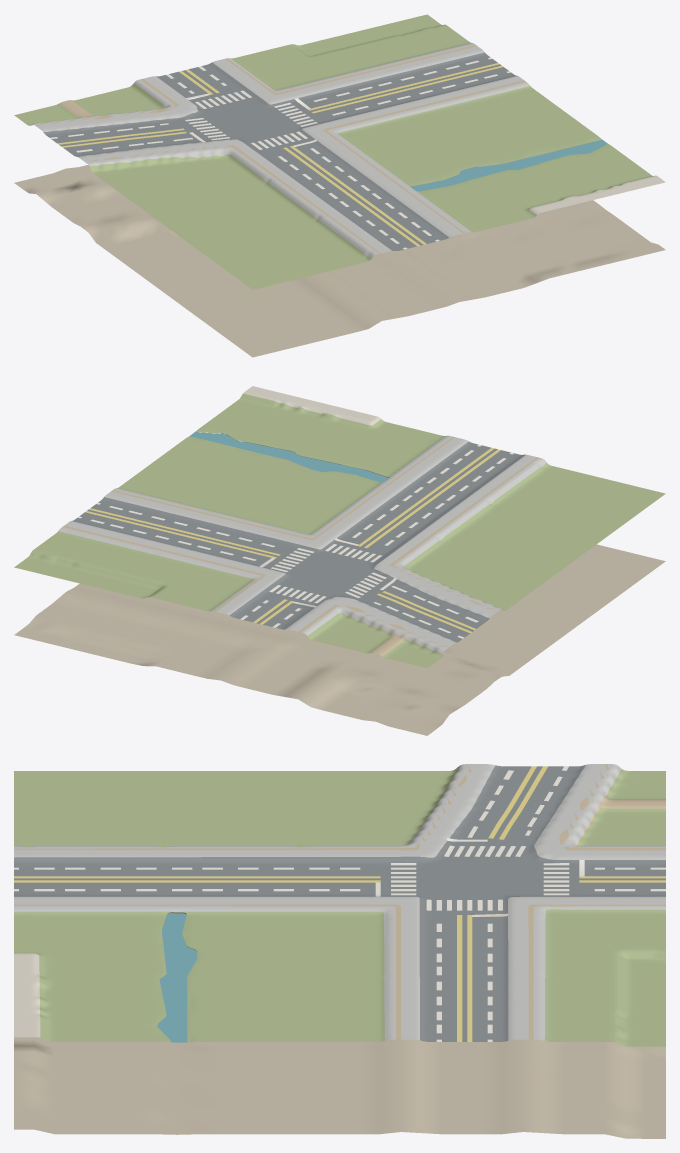
The picture shows the model from 3 angles, top to bottom: view 1: azimuth 30°, elevation 25°; view 2: azimuth 150°, elevation 25°; view 3: azimuth 270°, elevation 25°; orthographic projection. The views are drawn at different scales.
Visible parts, largest first — view 1: s_-3_1__grass, s_-3_1__soil, s_-3_1__asphalt, s_-3_1__stone_paving, s_-3_1__white_marking, s_-3_1__yellow_marking, s_-3_1__timber_deck, s_-3_1__water, s_-3_1__paving; view 2: s_-3_1__grass, s_-3_1__soil, s_-3_1__asphalt, s_-3_1__stone_paving, s_-3_1__white_marking, s_-3_1__timber_deck, s_-3_1__yellow_marking, s_-3_1__water, s_-3_1__paving; view 3: s_-3_1__grass, s_-3_1__soil, s_-3_1__asphalt, s_-3_1__stone_paving, s_-3_1__white_marking, s_-3_1__timber_deck, s_-3_1__yellow_marking, s_-3_1__water, s_-3_1__paving.
Boxes of the visible parts, left/top/right/bottom form: s_-3_1__grass: left=14, top=14, right=653, bottom=289; s_-3_1__soil: left=14, top=156, right=665, bottom=357; s_-3_1__asphalt: left=43, top=52, right=516, bottom=250; s_-3_1__stone_paving: left=32, top=43, right=529, bottom=258; s_-3_1__white_marking: left=49, top=57, right=510, bottom=249; s_-3_1__yellow_marking: left=57, top=63, right=503, bottom=246; s_-3_1__timber_deck: left=36, top=45, right=525, bottom=253; s_-3_1__water: left=411, top=140, right=607, bottom=191; s_-3_1__paving: left=529, top=175, right=665, bottom=214; s_-3_1__grass: left=14, top=393, right=665, bottom=668; s_-3_1__soil: left=14, top=544, right=665, bottom=735; s_-3_1__asphalt: left=72, top=441, right=525, bottom=642; s_-3_1__stone_paving: left=58, top=435, right=546, bottom=654; s_-3_1__white_marking: left=78, top=444, right=513, bottom=638; s_-3_1__timber_deck: left=63, top=436, right=538, bottom=656; s_-3_1__yellow_marking: left=85, top=447, right=500, bottom=633; s_-3_1__water: left=189, top=432, right=388, bottom=482; s_-3_1__paving: left=243, top=386, right=380, bottom=425; s_-3_1__grass: left=14, top=765, right=665, bottom=1046; s_-3_1__soil: left=14, top=863, right=665, bottom=1138; s_-3_1__asphalt: left=14, top=765, right=665, bottom=1041; s_-3_1__stone_paving: left=14, top=764, right=665, bottom=1040; s_-3_1__white_marking: left=14, top=766, right=665, bottom=1041; s_-3_1__timber_deck: left=14, top=764, right=665, bottom=1039; s_-3_1__yellow_marking: left=14, top=766, right=665, bottom=1041; s_-3_1__water: left=157, top=913, right=197, bottom=1042; s_-3_1__paving: left=14, top=953, right=40, bottom=1037.
Size of the model in its own units: 128 by 22.01 by 128.
